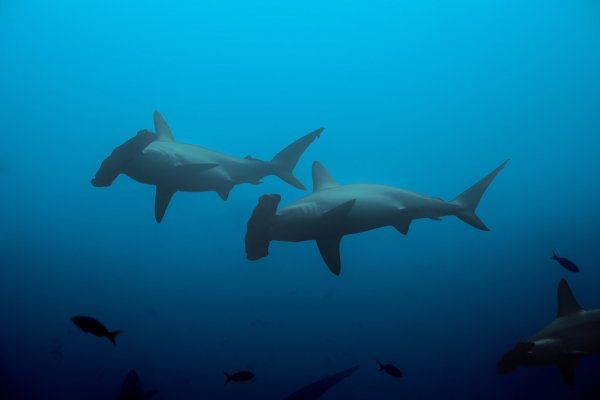Hammer: (251, 149, 515, 312), (90, 92, 326, 226)
